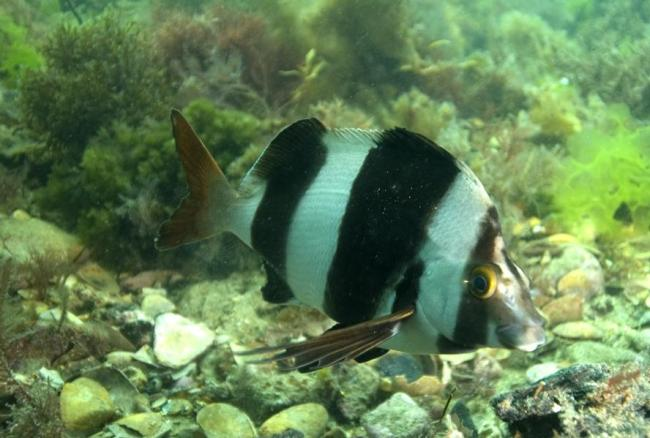fish: (155, 109, 546, 369)
